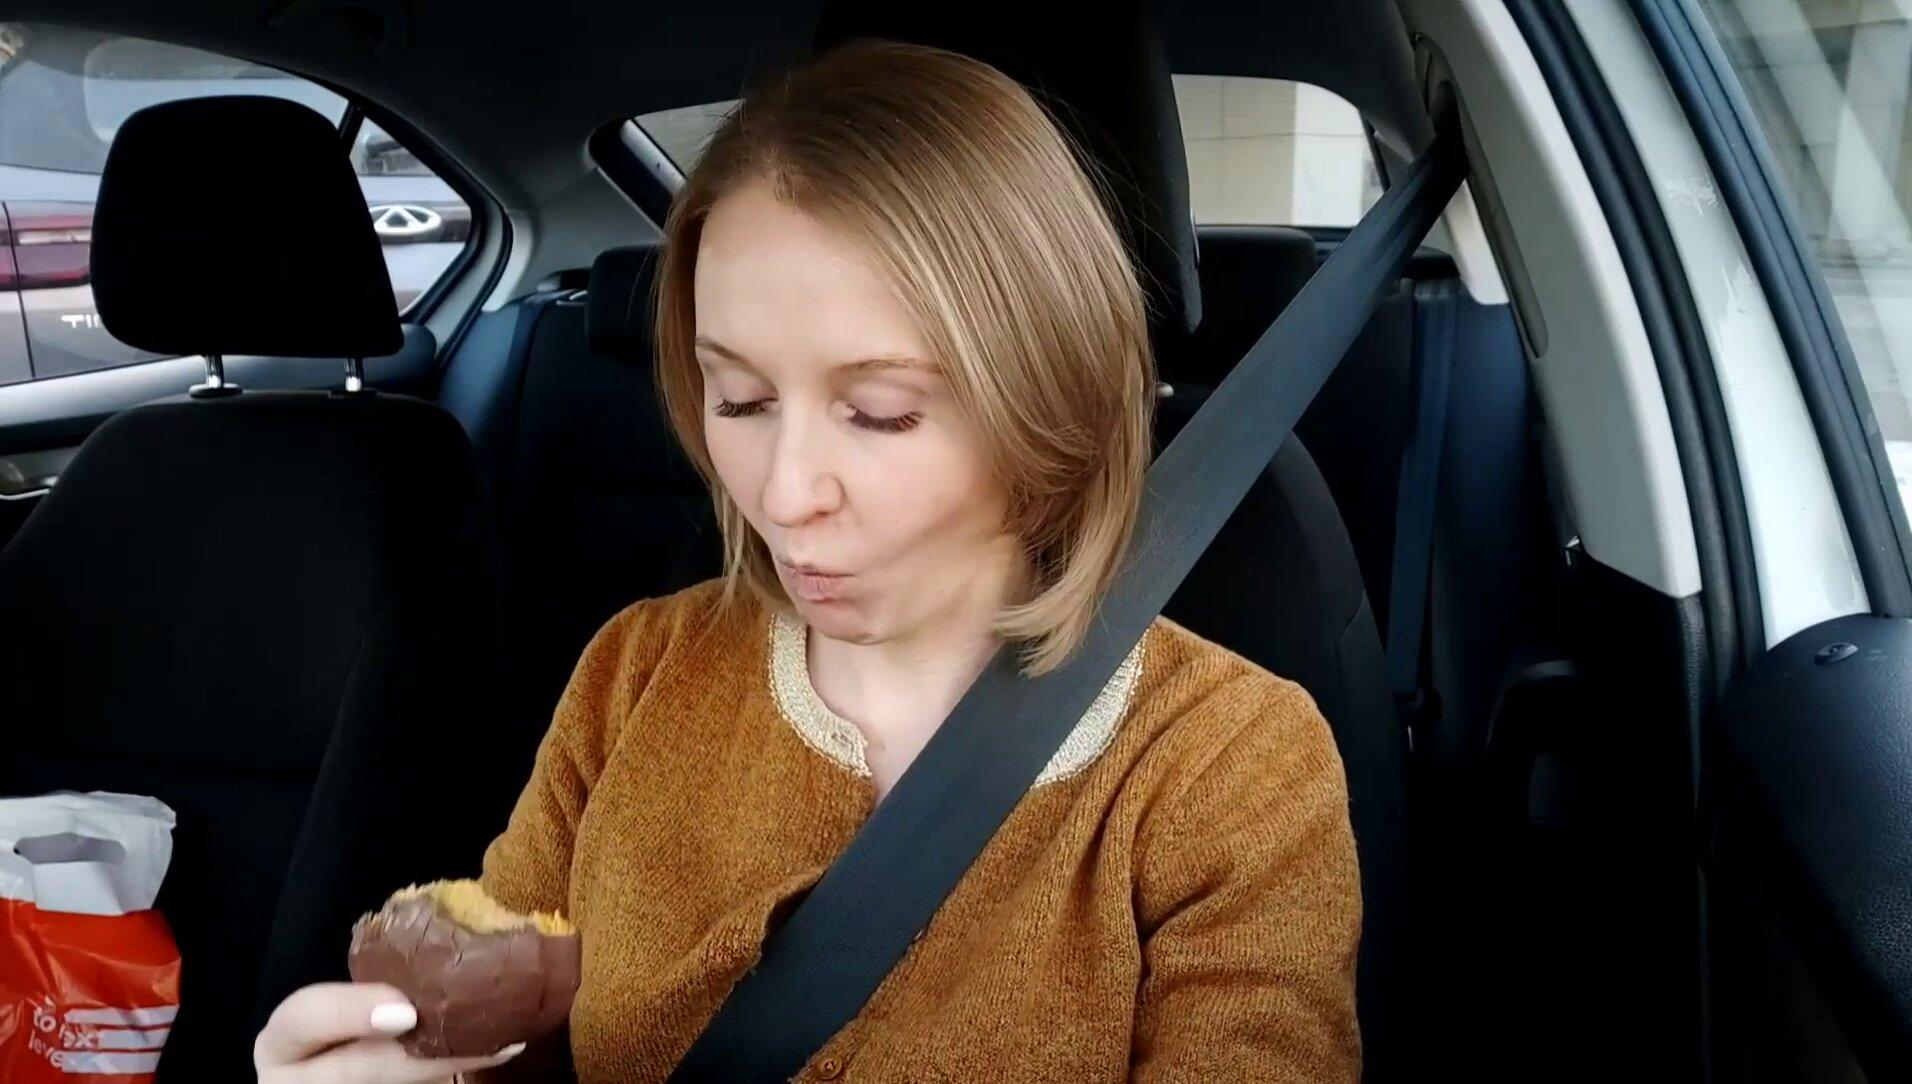Eating: (336, 870, 588, 1060)
